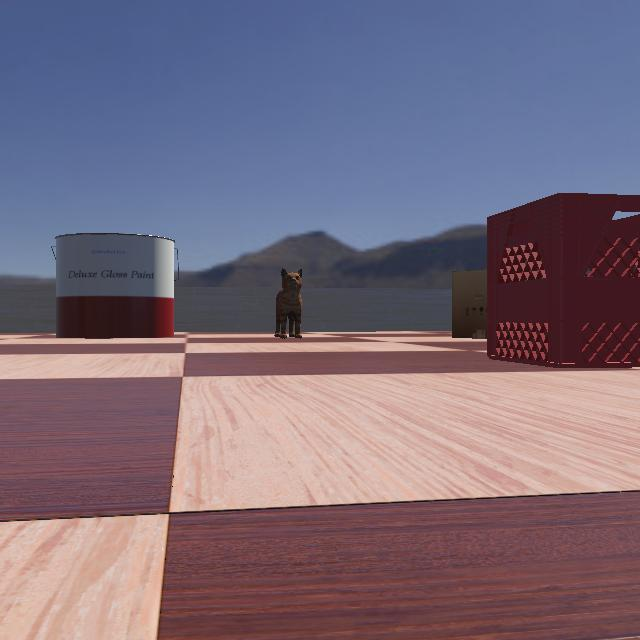cat: (268, 266, 306, 338), (268, 266, 306, 338), (268, 266, 306, 338)
paint-bucket: (21, 232, 190, 338), (21, 232, 190, 338)
plastic-crate: (480, 192, 640, 368)
